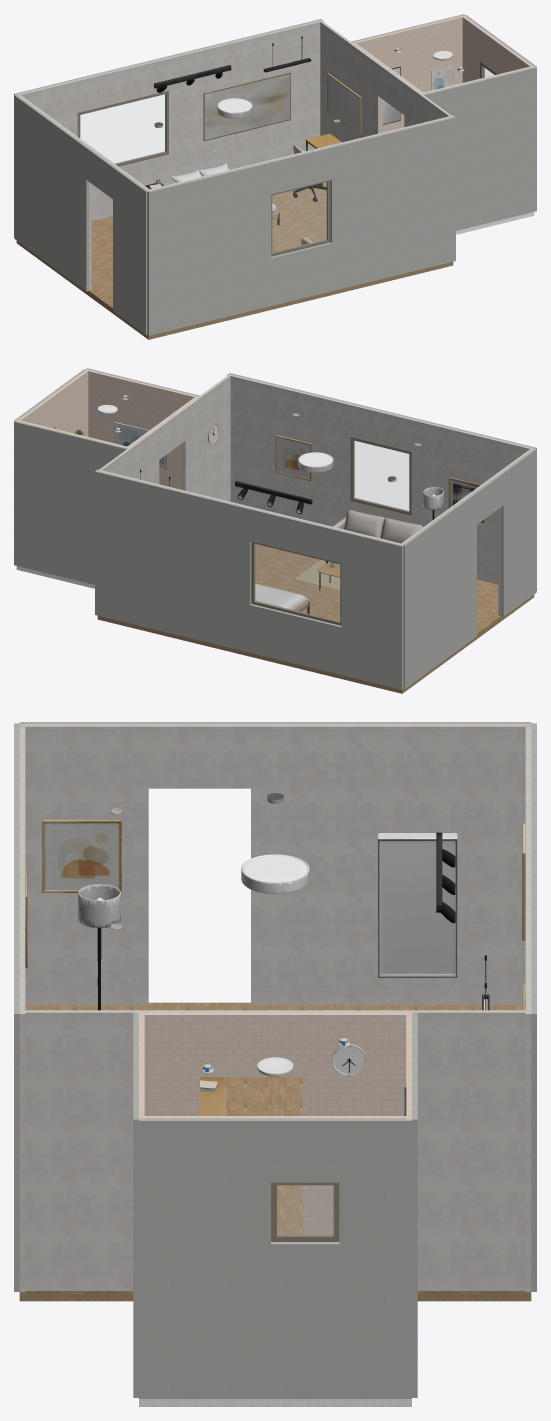
Rendered from scene_web.glb.
The picture shows the model from 3 angles, top to bottom: view 1: azimuth 30°, elevation 25°; view 2: azimuth 150°, elevation 25°; view 3: azimuth 270°, elevation 25°; orthographic projection. The views are drawn at different scales.
Visible parts, largest first — view 1: geometry_0.003, geometry_0, geometry_0.006, geometry_0.039, Mesh_0, geometry_0.004, geometry_0.036, glass, geometry_0.015, glass.001, geometry_0.040, geometry_0.017 (+9 smaller); view 2: geometry_0.001, geometry_0.002, geometry_0.006, geometry_0.037, geometry_0.004, Mesh_0, geometry_0.038, glass, glass.001, geometry_0.040, geometry_0.008, geometry_0.013 (+12 smaller); view 3: geometry_0.005, geometry_0.041, geometry_0.004, geometry_0.042, geometry_0.019, Mesh_0, geometry_0.020, geometry_0, geometry_0.002, geometry_0.001, geometry_0.003, glass.002 (+11 smaller).
Part boxes in pixels (x1,y1,x2,y2): geometry_0.003: [147, 116, 455, 335]; geometry_0: [20, 20, 323, 220]; geometry_0.006: [14, 94, 147, 334]; geometry_0.039: [423, 66, 536, 230]; Mesh_0: [16, 182, 453, 339]; geometry_0.004: [319, 20, 452, 142]; geometry_0.036: [352, 15, 465, 132]; glass: [80, 94, 165, 163]; geometry_0.015: [203, 72, 290, 140]; glass.001: [272, 182, 326, 252]; geometry_0.040: [462, 16, 532, 82]; geometry_0.017: [327, 73, 361, 134]; geometry_0.001: [95, 470, 403, 689]; geometry_0.002: [227, 374, 530, 584]; geometry_0.006: [403, 448, 536, 688]; geometry_0.037: [14, 420, 127, 584]; geometry_0.004: [98, 374, 231, 501]; Mesh_0: [97, 544, 534, 693]; geometry_0.038: [85, 369, 198, 489]; glass: [255, 544, 339, 621]; glass.001: [354, 441, 408, 510]; geometry_0.040: [18, 370, 89, 436]; geometry_0.008: [325, 510, 422, 563]; geometry_0.013: [275, 435, 311, 480]; geometry_0.005: [19, 724, 531, 1004]; geometry_0.041: [139, 1118, 411, 1398]; geometry_0.004: [19, 1010, 531, 1290]; geometry_0.042: [144, 1012, 406, 1234]; geometry_0.019: [378, 832, 457, 977]; Mesh_0: [19, 1002, 531, 1301]; geometry_0.020: [42, 819, 121, 892]; geometry_0: [525, 727, 531, 1291]; geometry_0.002: [19, 727, 25, 1291]; geometry_0.001: [531, 723, 536, 1291]; geometry_0.003: [14, 723, 19, 1291]; glass.002: [277, 1185, 333, 1235].
Bounding box in the file's own units: 8.3 × 2.8 × 4.6.
Materials: 56 (50 with a texture image).
